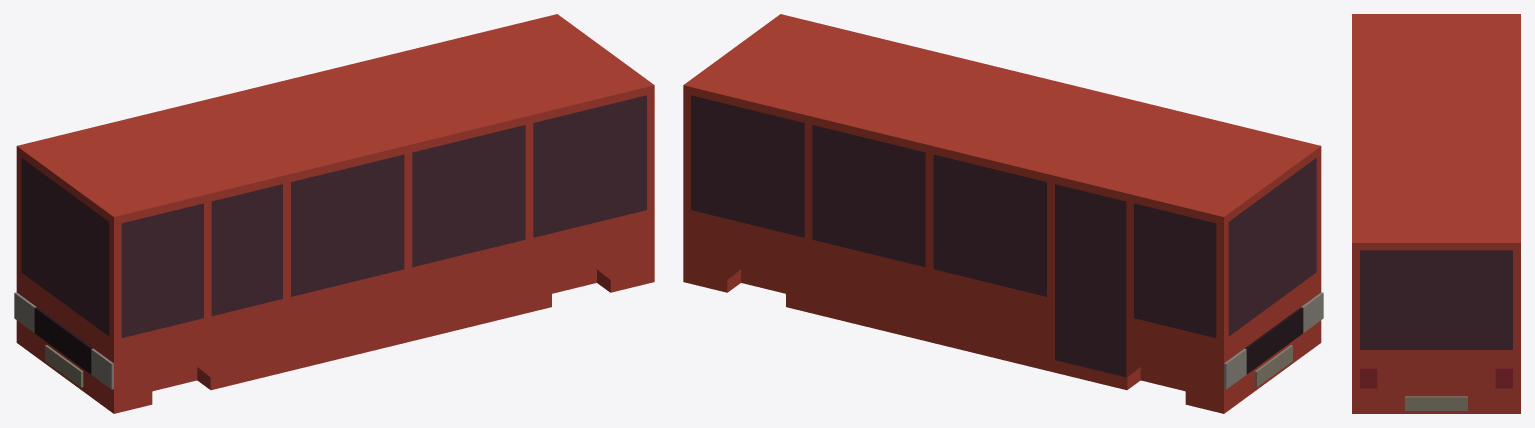
File: Bus_Red.fbx
3 renders of one model, left to right at view 1: azimuth 30°, elevation 25°; view 2: azimuth 150°, elevation 25°; view 3: azimuth 270°, elevation 25°, orthographic. The views are drawn at different scales.
Visible parts, largest first — view 1: Bus_Red, Bus_Lights; view 2: Bus_Red, Bus_Lights; view 3: Bus_Red, Bus_Lights.
Part boxes in pixels (left/top/right/bottom): Bus_Red: left=16, top=14, right=654, bottom=413; Bus_Lights: left=14, top=292, right=113, bottom=389; Bus_Red: left=683, top=14, right=1321, bottom=413; Bus_Lights: left=1224, top=292, right=1323, bottom=389; Bus_Red: left=1352, top=14, right=1520, bottom=413; Bus_Lights: left=1360, top=367, right=1512, bottom=388.
Size of the model in its own units: 6.96 by 2.4 by 2.15.
